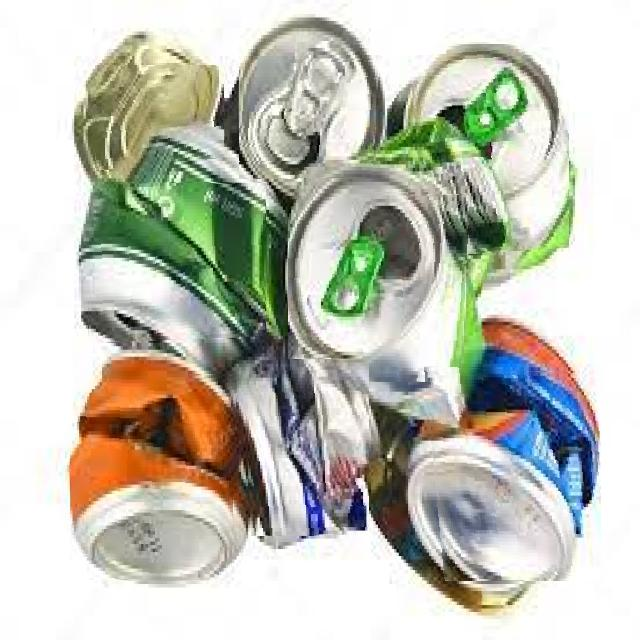Cans: (424, 366, 601, 581), (288, 190, 471, 382), (70, 371, 237, 580), (408, 44, 569, 257), (86, 183, 266, 343), (243, 359, 369, 536), (240, 35, 382, 179), (92, 66, 224, 172)
